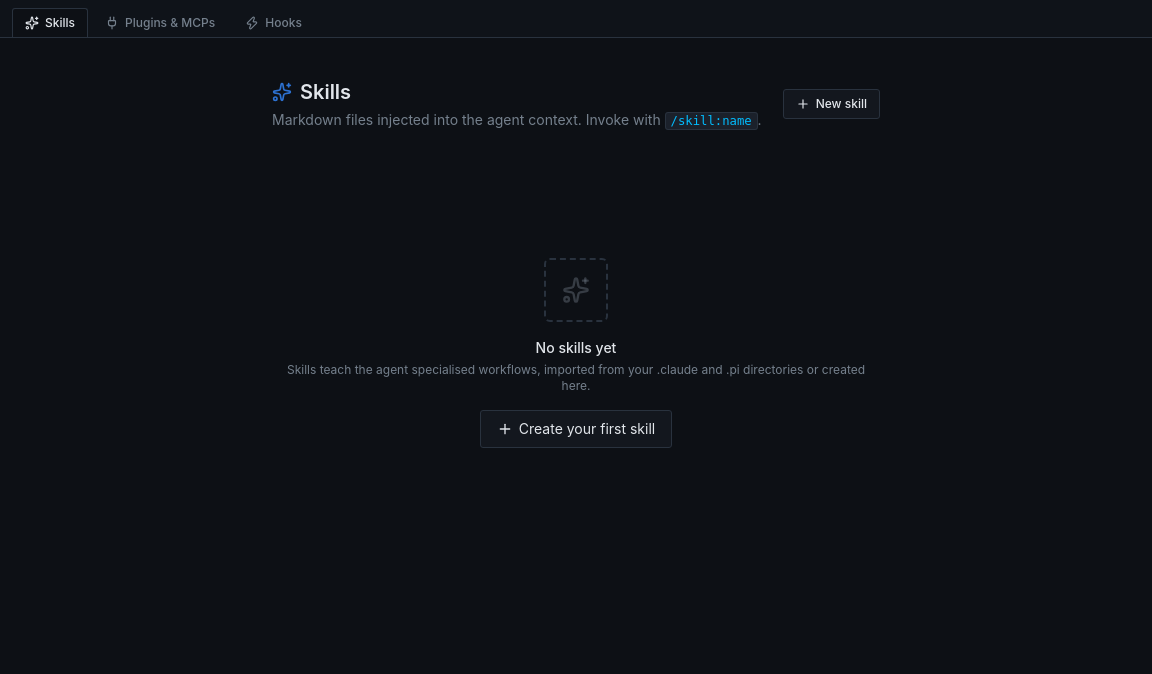
Test: ExtensionsPanel › cycles back to Skills when clicking Plugins then Skills again
What coordinates should you click on to do the following:
click the tab "Plugins & MCPs"
I would click on:
 (160, 22)
Its box is [92,8,228,37].
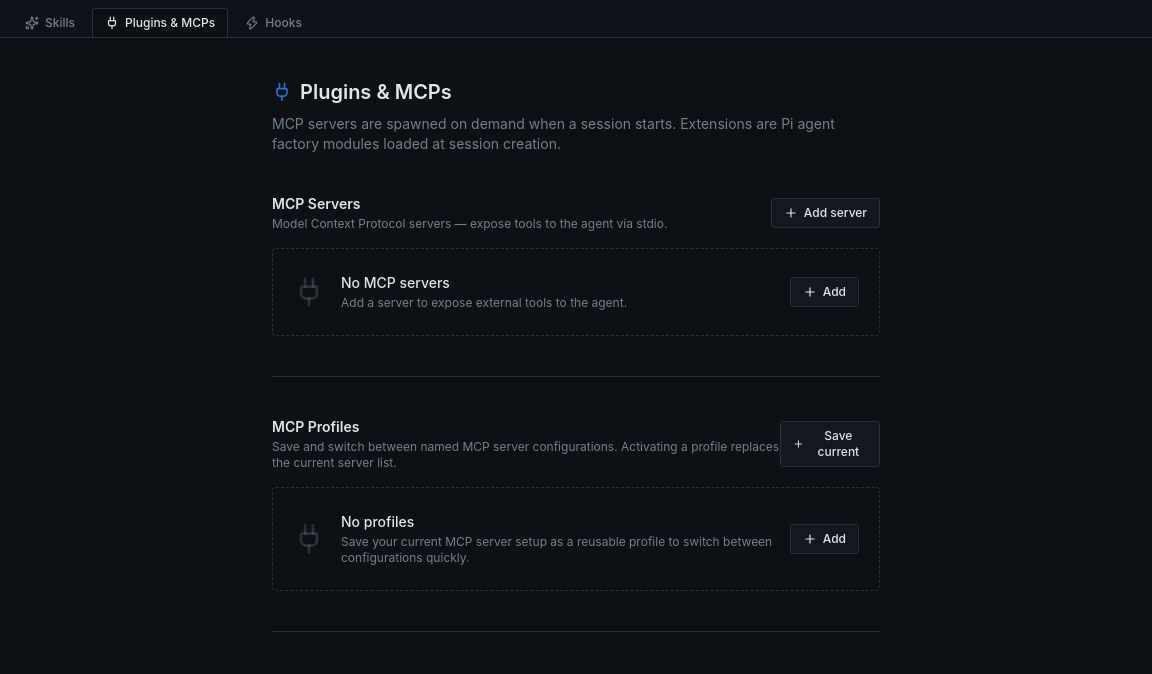
Check: the heading "Plugins & MCPs" is shown, box [300,78,452,106]
What coordinates should you click on to do the following:
click the tab "Skills"
I would click on:
 (50, 22)
Its box is [12,8,88,37].
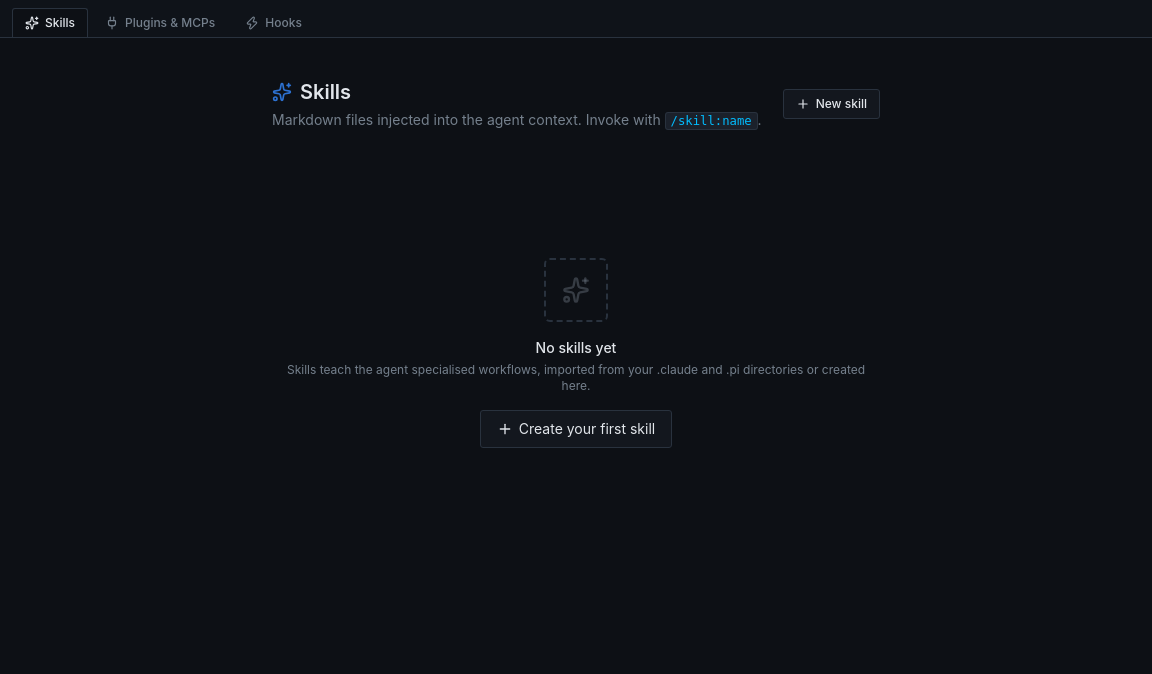
Check: the heading "Skills" is shown, box [300,78,351,106]
